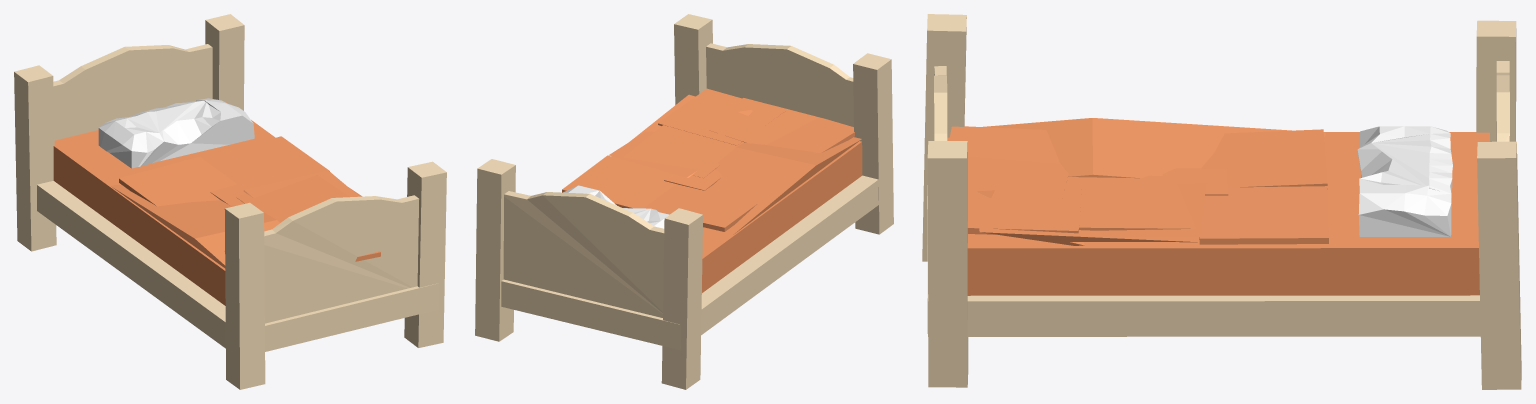
Rendered from single_bed.gltf.
The picture shows the model from 3 angles, left to right: view 1: azimuth 30°, elevation 25°; view 2: azimuth 150°, elevation 25°; view 3: azimuth 270°, elevation 25°; orthographic projection. The views are drawn at different scales.
Visible parts, largest first — view 1: mesh934344302; view 2: mesh934344302; view 3: mesh934344302.
Part boxes in pixels (x1=…): mesh934344302: x1=14, y1=14, x2=446, y2=389; mesh934344302: x1=475, y1=14, x2=893, y2=389; mesh934344302: x1=922, y1=14, x2=1521, y2=389.
Size of the model in its own units: 1.25 by 0.9868 by 2.2.
